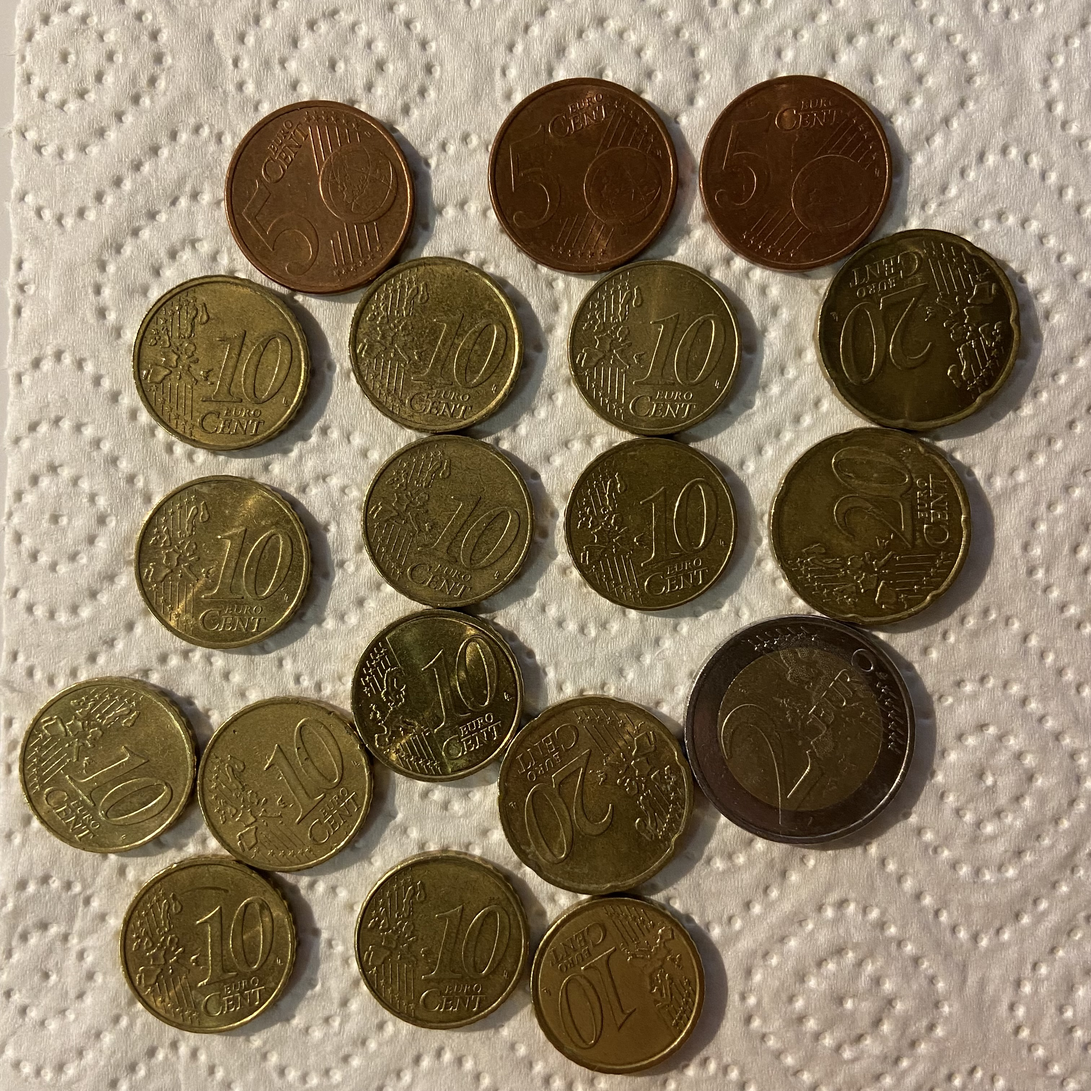10 cent: (19, 677, 197, 853), (121, 855, 296, 1033), (355, 850, 529, 1029), (133, 276, 310, 451), (194, 696, 371, 871), (349, 257, 523, 434), (531, 897, 704, 1074), (568, 260, 741, 436), (565, 438, 736, 611), (352, 609, 523, 782), (362, 435, 533, 608)
2 cent: (700, 75, 891, 271)
2 euro: (685, 615, 915, 845)
20 cent: (811, 225, 1024, 437), (496, 683, 709, 895), (770, 425, 983, 636), (135, 476, 311, 649)
5 cent: (700, 75, 891, 271), (488, 78, 678, 274), (225, 101, 415, 294)
